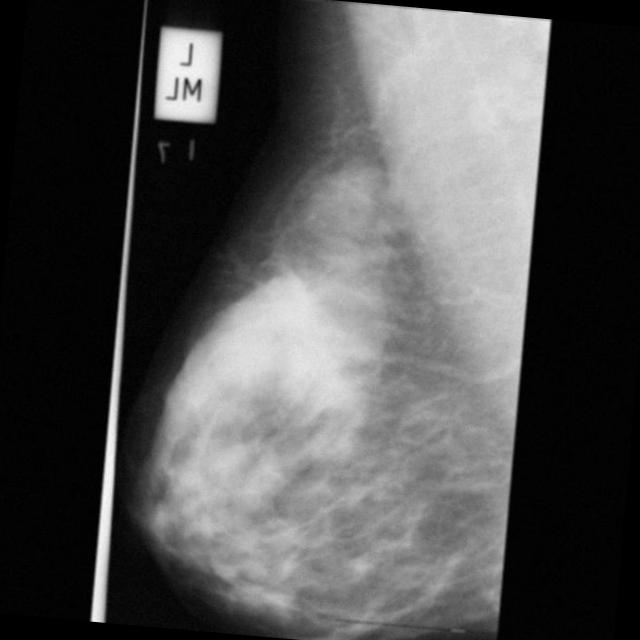ARCH: (210, 226, 368, 384)
